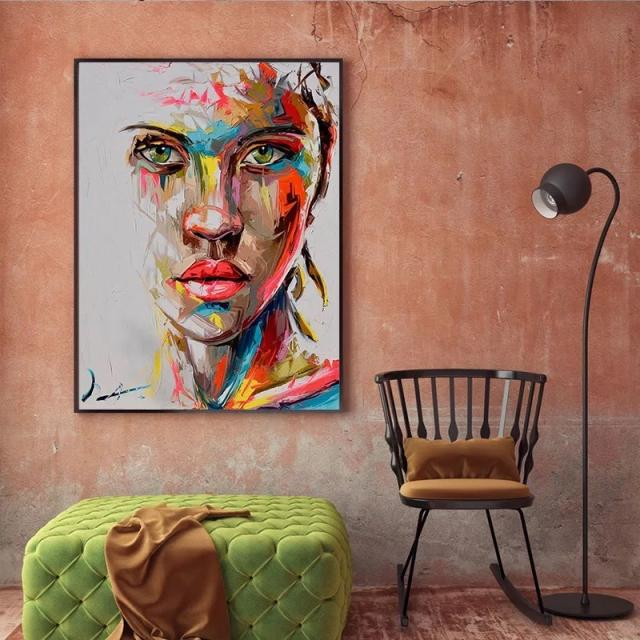painting: (76, 61, 341, 410)
